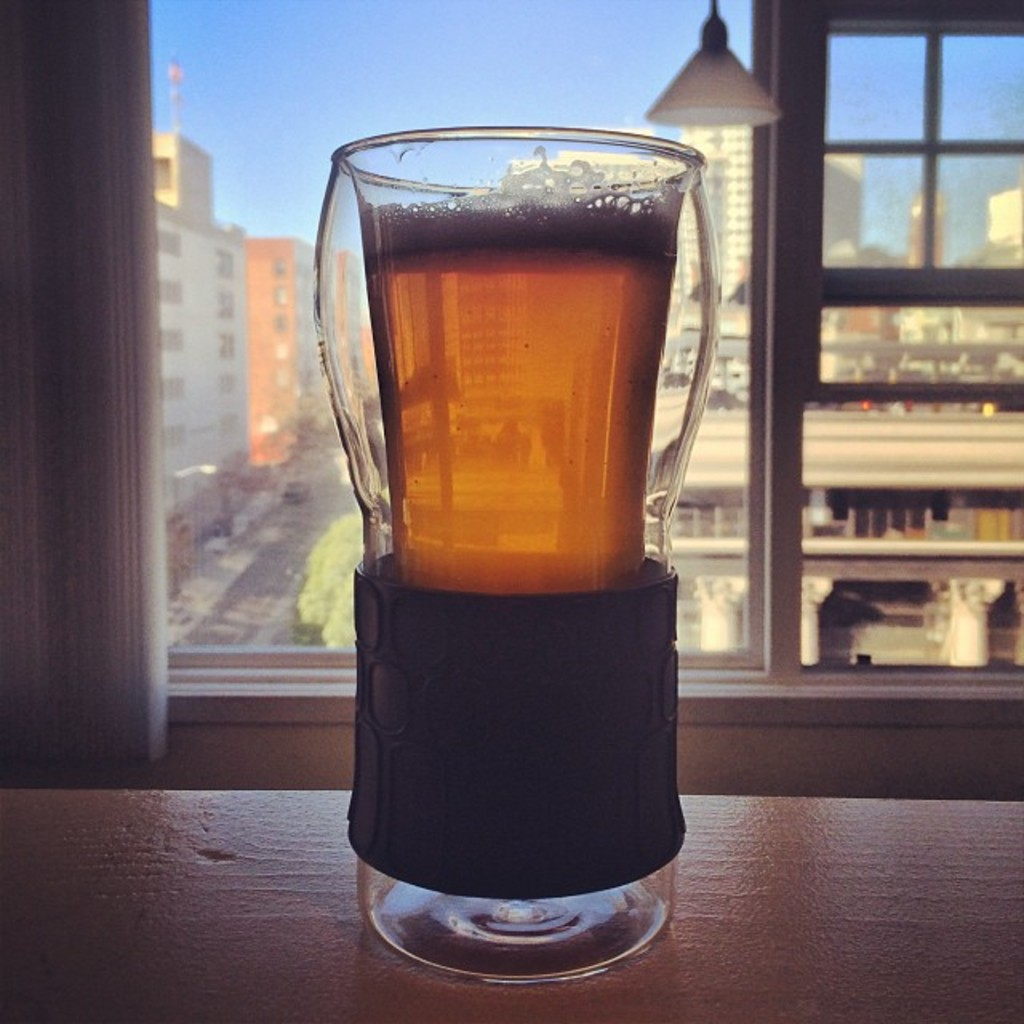Beer: (364, 180, 673, 596)
